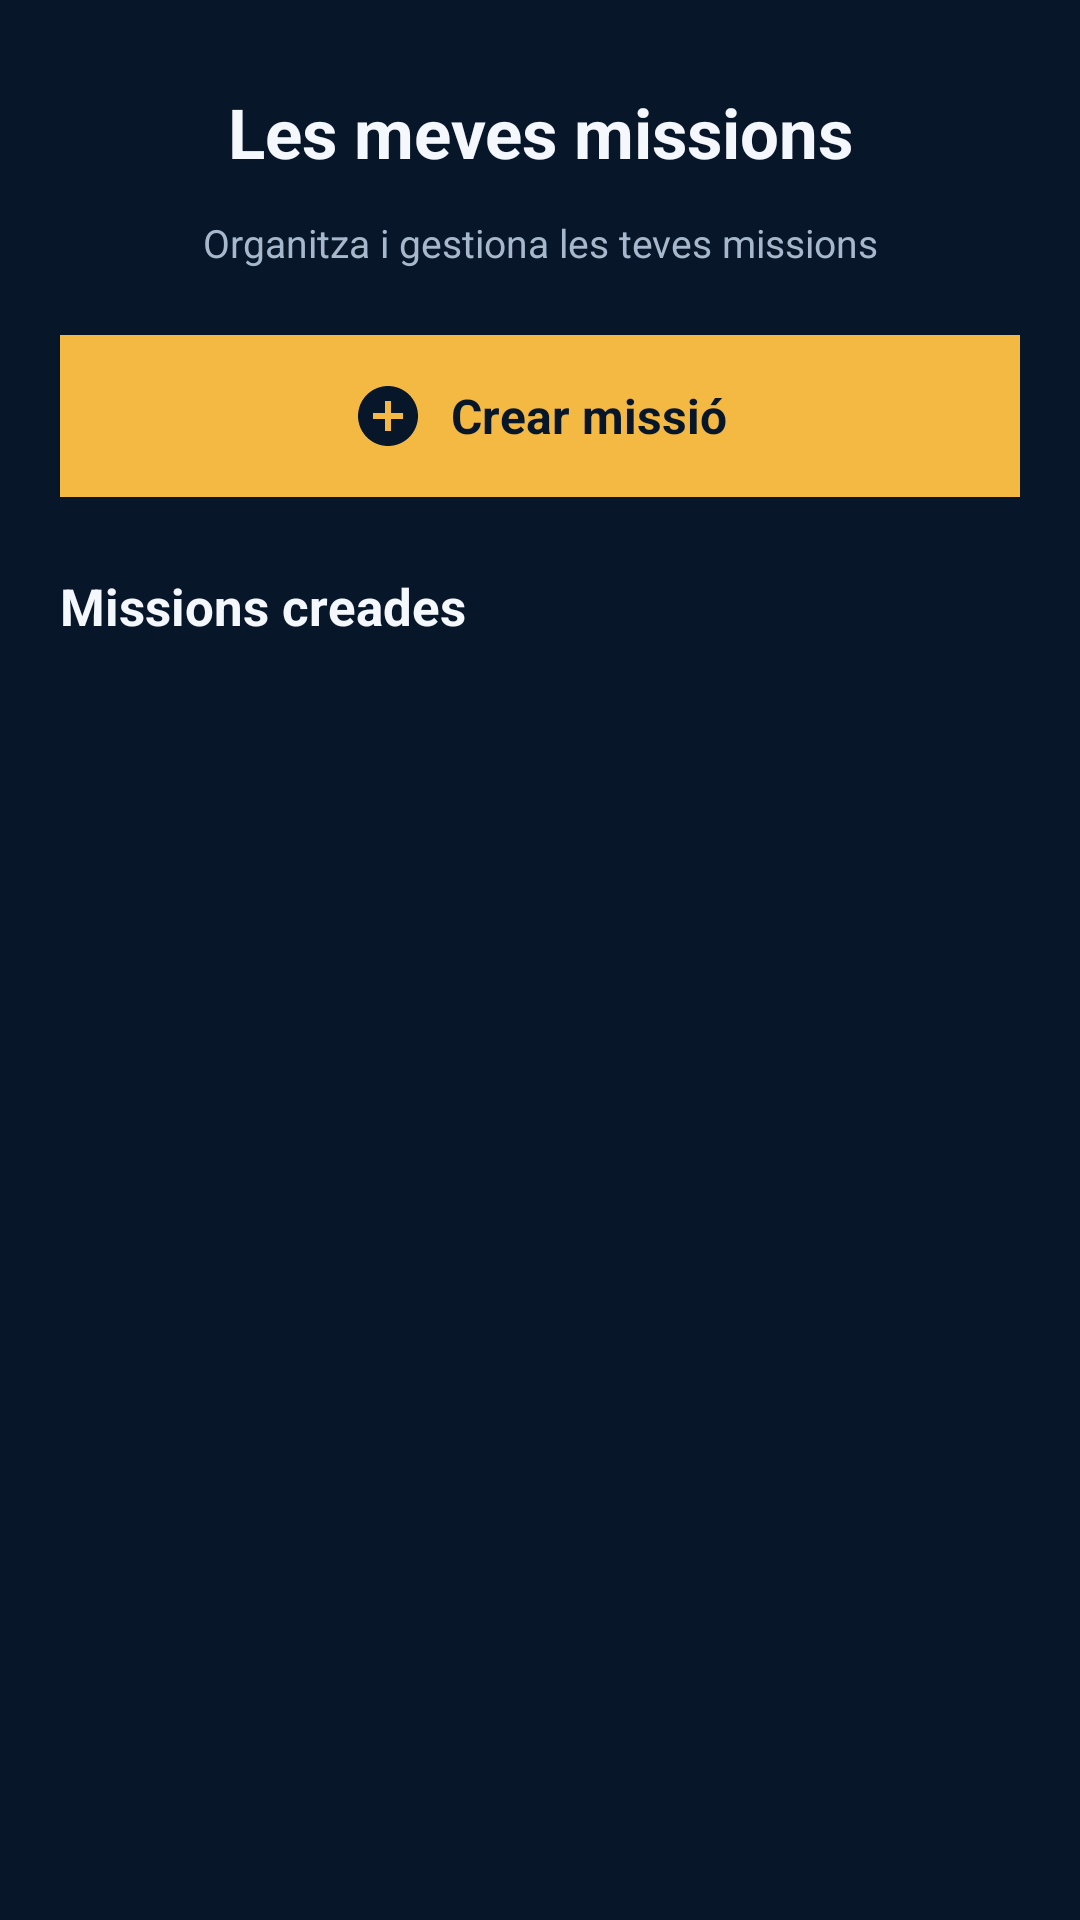

Icons on this 1080px×1920px Android screen, each with its box as detection(x1, y1, x2, y2):
add circle: detection(358, 386, 418, 446)
